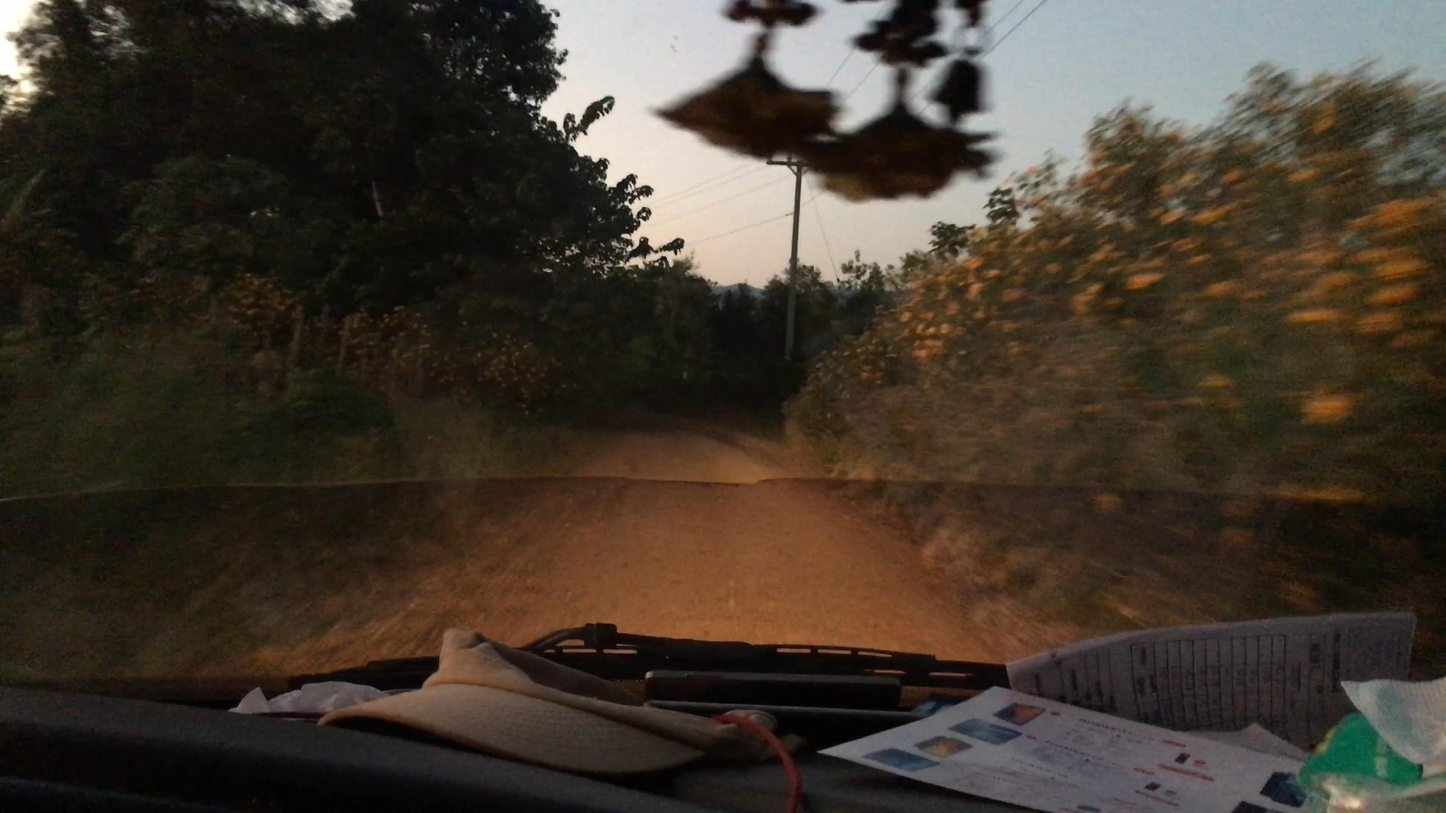dry: (223, 412, 1027, 680)
